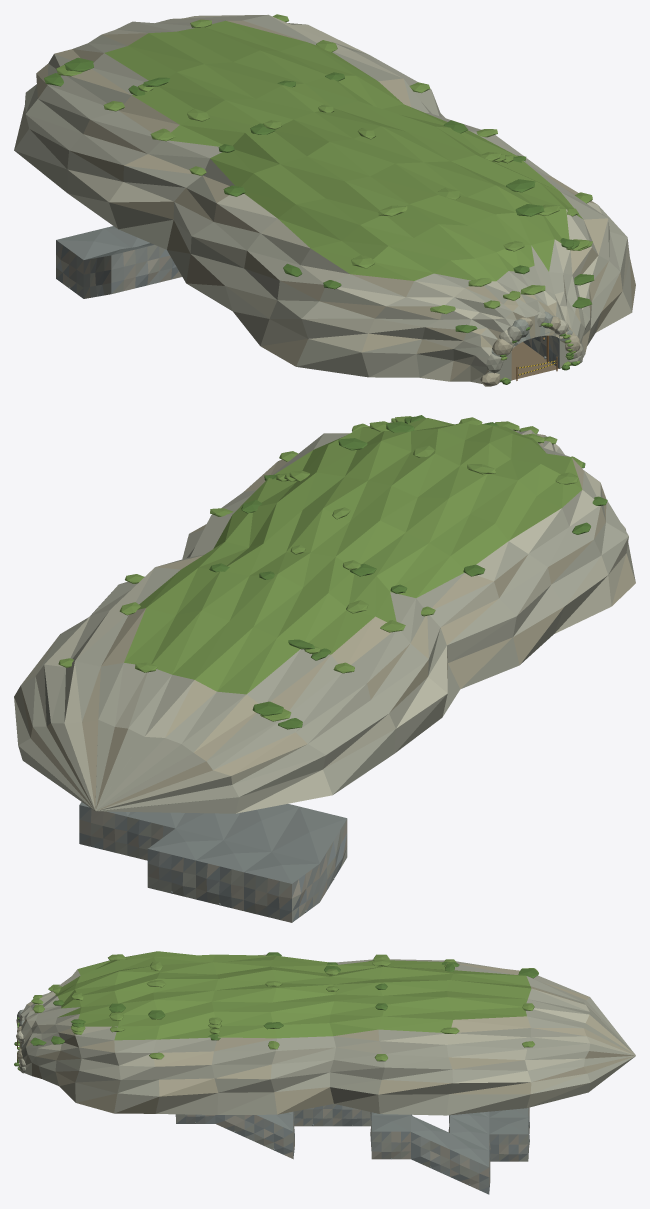
The model's file is region_mine.glb.
3 renders of one model, top to bottom at view 1: azimuth 30°, elevation 25°; view 2: azimuth 150°, elevation 25°; view 3: azimuth 270°, elevation 25°, orthographic. The views are drawn at different scales.
Visible parts, largest first — view 1: MineRockAndVegetation; view 2: MineRockAndVegetation; view 3: MineRockAndVegetation.
Part boxes in pixels (x1,y1,x2,y2): MineRockAndVegetation: (14, 14, 635, 386); MineRockAndVegetation: (14, 415, 635, 922); MineRockAndVegetation: (14, 951, 635, 1194).
Bounding box in the file's own units: 59.2 × 39.52 × 127.
